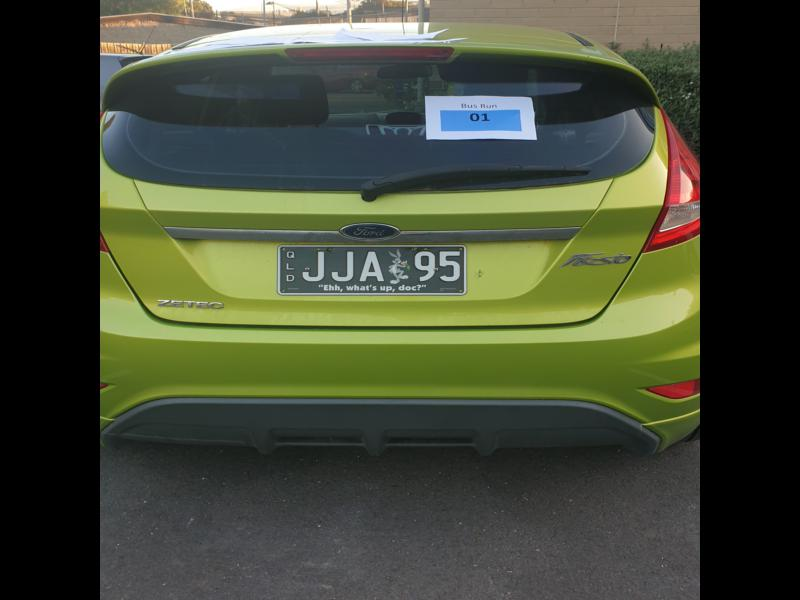BusRun: (438, 108, 524, 130)
PlateNo: (278, 245, 467, 294)
